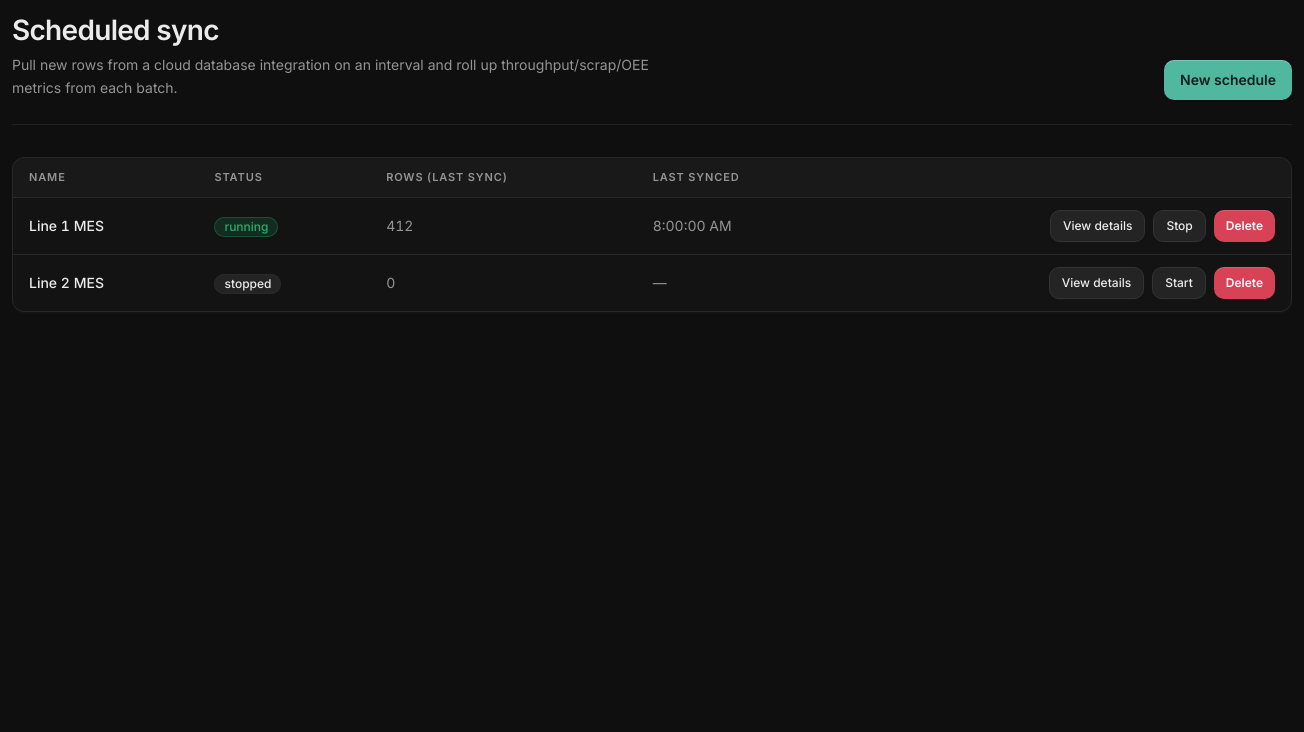
Test: Realtime › opens live details and shows the refreshed snapshot
The image size is (1304, 732).
Expected: the text "Line 1 MES" is shown, left=13, top=198, right=198, bottom=254
Click the button "View details" in the row of "Line 1 MES": (1098, 226) left=1050, top=210, right=1145, bottom=242
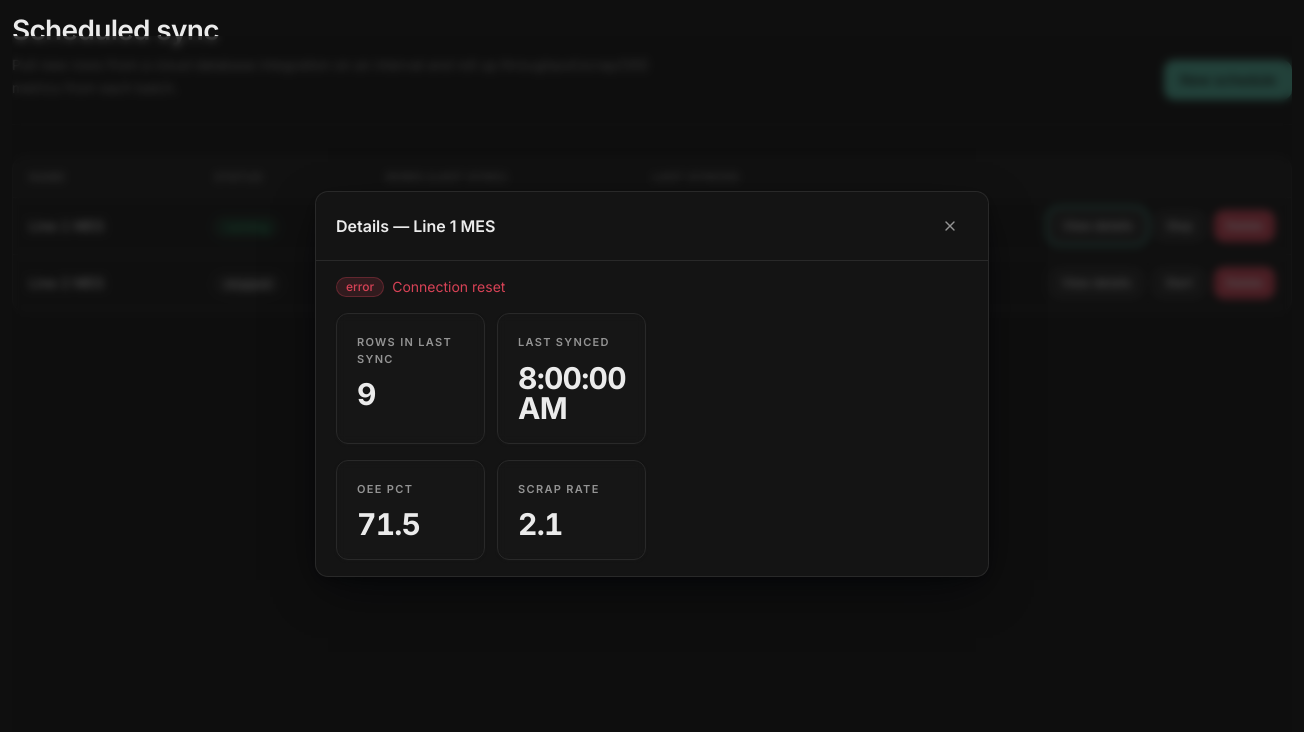
Expected: the text "oee pct" is shown, left=357, top=480, right=413, bottom=497
Expected: the text "71.5" is shown, left=357, top=506, right=420, bottom=542
Expected: the text "Connection reset" is shown, left=392, top=277, right=505, bottom=297
Click the button named "Close": (950, 226) left=932, top=208, right=968, bottom=244
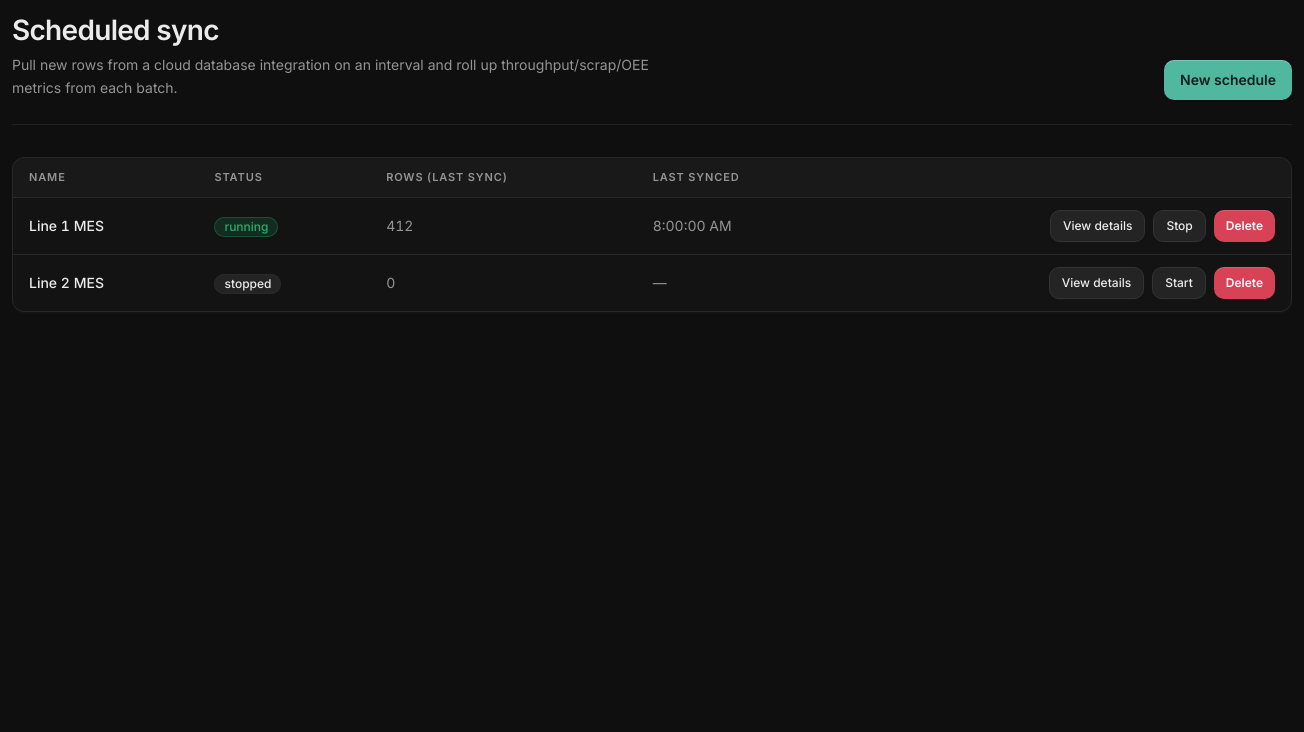
Expected: the heading "Details — Line 1 MES" is gone
